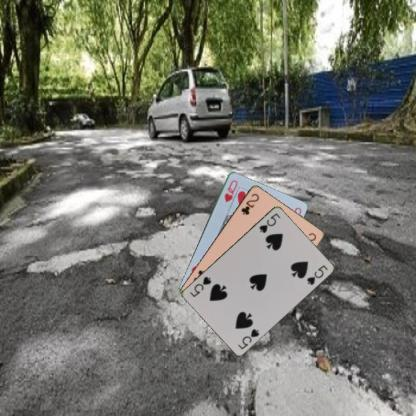2c: (238, 191, 260, 216)
5s: (235, 326, 261, 351), (257, 210, 282, 234)
Qh: (221, 177, 239, 203)
